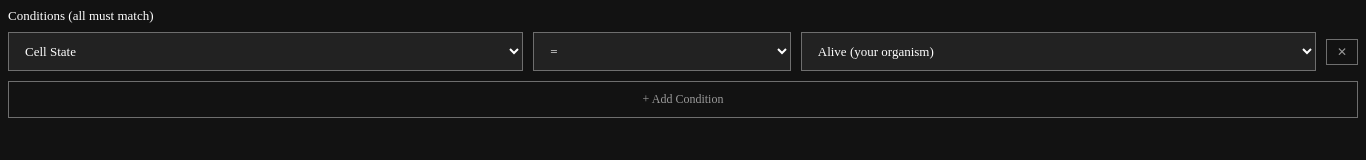
it: ConditionsEditor › deleting the only row focuses + Add Condition
Click the button named "Delete condition 1": (1342, 52) [1326, 38, 1358, 64]
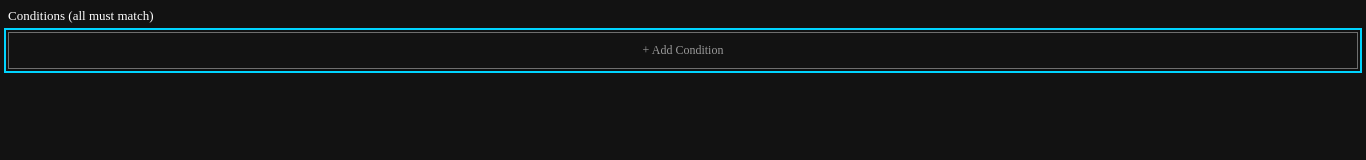
Result: the dropdown is gone
